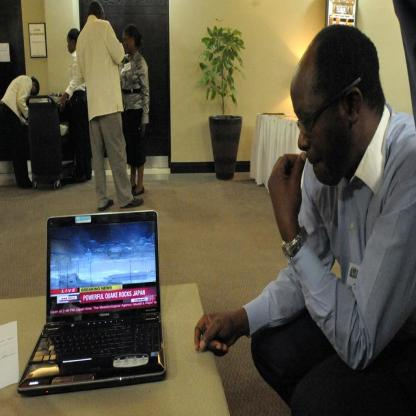board: (18, 197, 165, 404)
